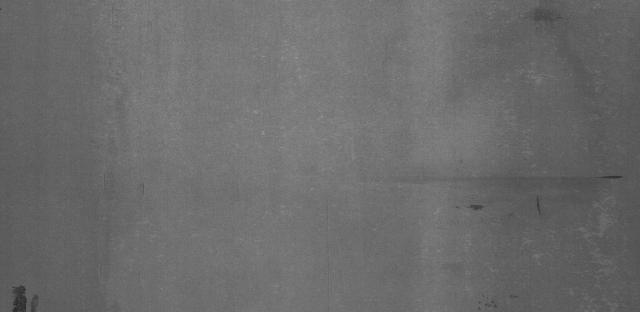oil_spot: (529, 5, 570, 38), (470, 286, 524, 310), (8, 284, 41, 312), (455, 196, 489, 217), (530, 193, 547, 217), (589, 174, 626, 183)
